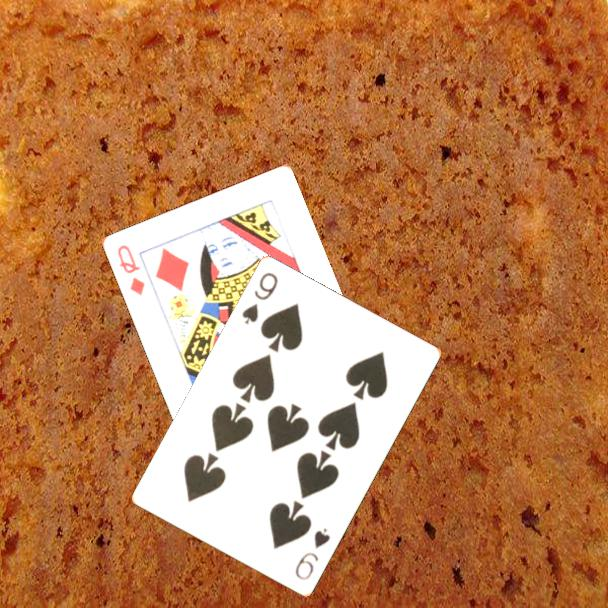d12: (113, 241, 147, 298)
s09: (238, 269, 281, 327), (292, 525, 333, 583)
